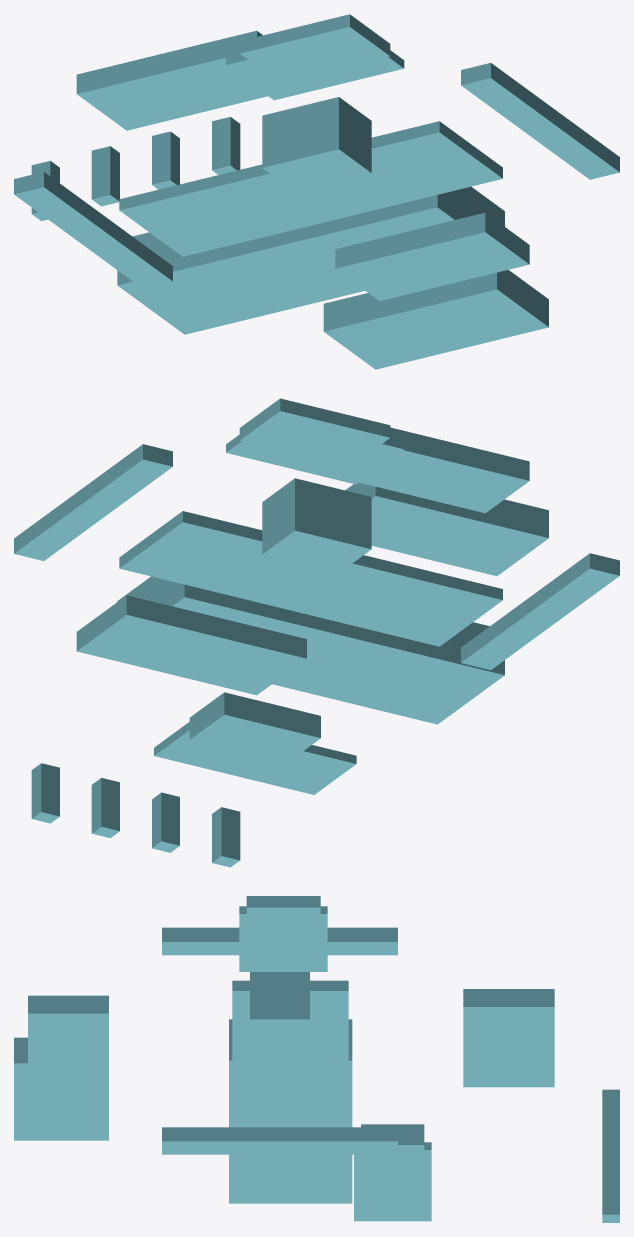
The model's file is offshore-center-console.glb.
3 views of the same model, one above another, from view 1: azimuth 30°, elevation 25°; view 2: azimuth 150°, elevation 25°; view 3: azimuth 270°, elevation 25° (orthographic). The views are drawn at different scales.
Parts seen in each view (by area): view 1: CenterConsoleMainDeck, CenterConsoleHull, CenterConsoleHullBow, CenterConsoleBow, CenterConsoleCockpit, CenterConsoleHelm, CenterConsoleTTopOverhead, CenterConsolePortWalkDeck, CenterConsoleStarboardWalkDeck, CenterConsoleTTopLevel, CenterConsoleOutboardPortInner, CenterConsoleOutboardStarboardOuter (+1 smaller); view 2: CenterConsoleMainDeck, CenterConsoleHull, CenterConsoleCockpit, CenterConsoleHullBow, CenterConsoleHelm, CenterConsoleBow, CenterConsoleTTopOverhead, CenterConsolePortWalkDeck, CenterConsoleStarboardWalkDeck, CenterConsoleBilgeMachinery, CenterConsoleMachineryLevel, CenterConsoleTTopLevel (+4 smaller); view 3: CenterConsoleMainDeck, CenterConsoleCockpit, CenterConsoleHull, CenterConsoleBow, CenterConsoleStarboardWalkDeck, CenterConsoleHullBow, CenterConsoleHelm, CenterConsoleTTopOverhead, CenterConsolePortWalkDeck, CenterConsoleMachineryLevel, CenterConsoleBilgeMachinery, CenterConsoleTTopLevel (+4 smaller).
Part boxes in pixels (x1,y1,x2,y2): CenterConsoleMainDeck: (119,121,502,256); CenterConsoleHull: (117,186,504,334); CenterConsoleHullBow: (323,270,548,369); CenterConsoleBow: (335,212,529,300); CenterConsoleCockpit: (76,30,267,130); CenterConsoleHelm: (262,97,371,191); CenterConsoleTTopOverhead: (239,14,390,83); CenterConsolePortWalkDeck: (14,172,172,288); CenterConsoleStarboardWalkDeck: (461,63,619,179); CenterConsoleTTopLevel: (226,50,404,100); CenterConsoleOutboardPortInner: (91,146,119,206); CenterConsoleOutboardStarboardOuter: (212,117,240,174); CenterConsoleMainDeck: (119,511,502,646); CenterConsoleHull: (117,576,504,724); CenterConsoleCockpit: (76,595,306,695); CenterConsoleHullBow: (345,482,548,575); CenterConsoleHelm: (262,478,371,573); CenterConsoleBow: (359,427,529,513); CenterConsoleTTopOverhead: (239,398,390,467); CenterConsolePortWalkDeck: (461,553,619,670); CenterConsoleStarboardWalkDeck: (14,444,172,560); CenterConsoleBilgeMachinery: (189,692,320,763); CenterConsoleMachineryLevel: (154,722,356,794); CenterConsoleTTopLevel: (226,434,404,484); CenterConsoleMainDeck: (232,980,348,1127); CenterConsoleCockpit: (463,989,554,1087); CenterConsoleHull: (229,1019,352,1203); CenterConsoleBow: (28,995,108,1080); CenterConsoleStarboardWalkDeck: (162,1127,397,1154); CenterConsoleHullBow: (14,1037,108,1140); CenterConsoleHelm: (250,972,309,1053); CenterConsoleTTopOverhead: (246,896,320,956); CenterConsolePortWalkDeck: (162,927,397,955); CenterConsoleMachineryLevel: (354,1142,431,1221); CenterConsoleBilgeMachinery: (361,1124,424,1187); CenterConsoleTTopLevel: (239,906,327,971).
Size of the model in its own units: 7.15 by 4.15 by 8.6.
